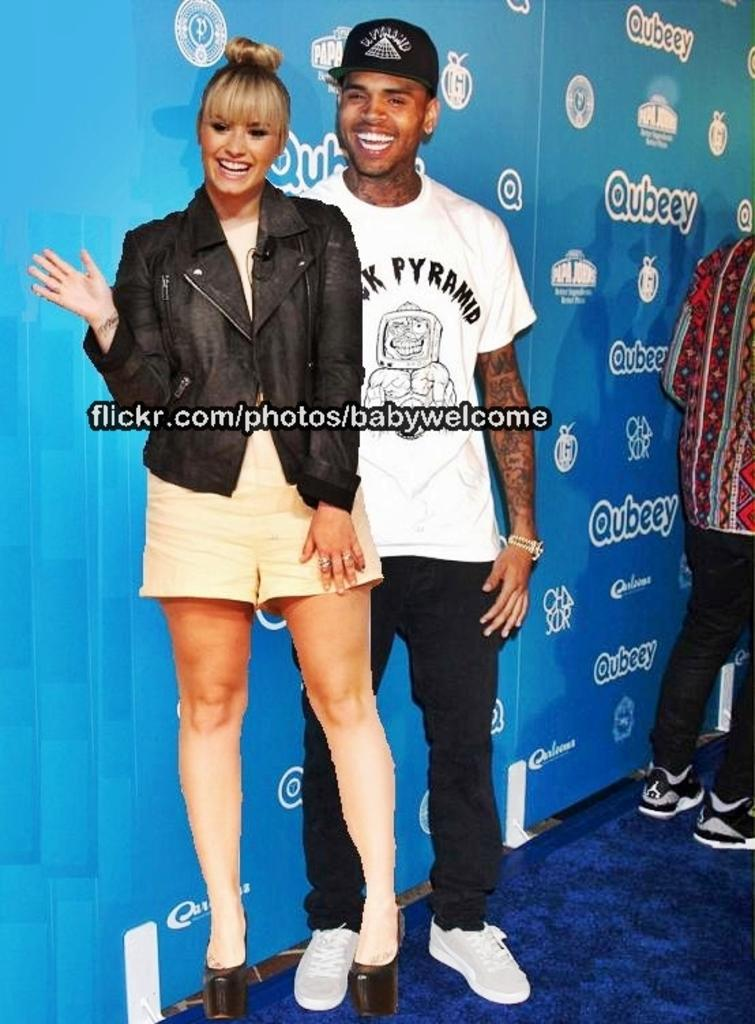no_helmet: (317, 8, 453, 190), (226, 31, 342, 195)
none: (317, 171, 492, 555), (198, 206, 372, 502)
